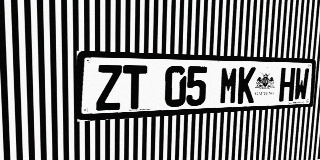0: (164, 66, 187, 108)
5: (186, 66, 207, 106)
H: (279, 68, 295, 102)
K: (237, 67, 256, 104)
M: (219, 67, 239, 105)
T: (123, 65, 147, 110)
W: (293, 68, 309, 101)
Z: (96, 65, 122, 111)
